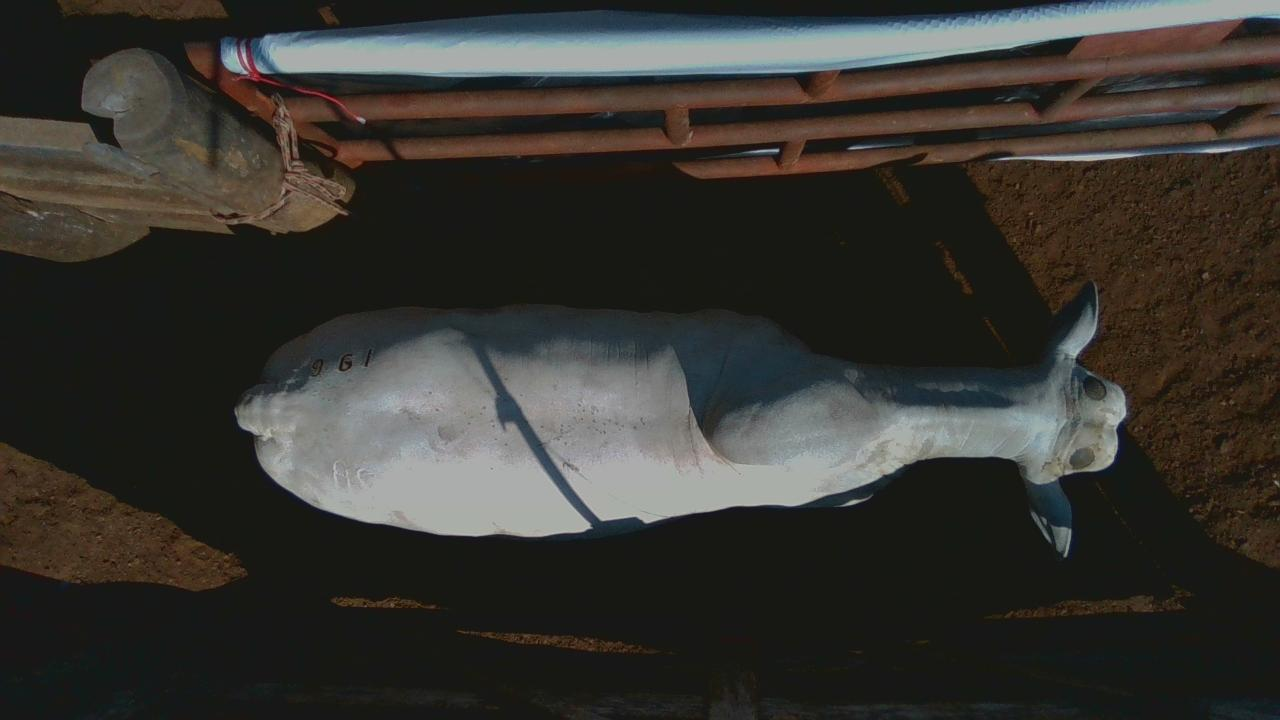cattle: (233, 277, 1128, 559)
